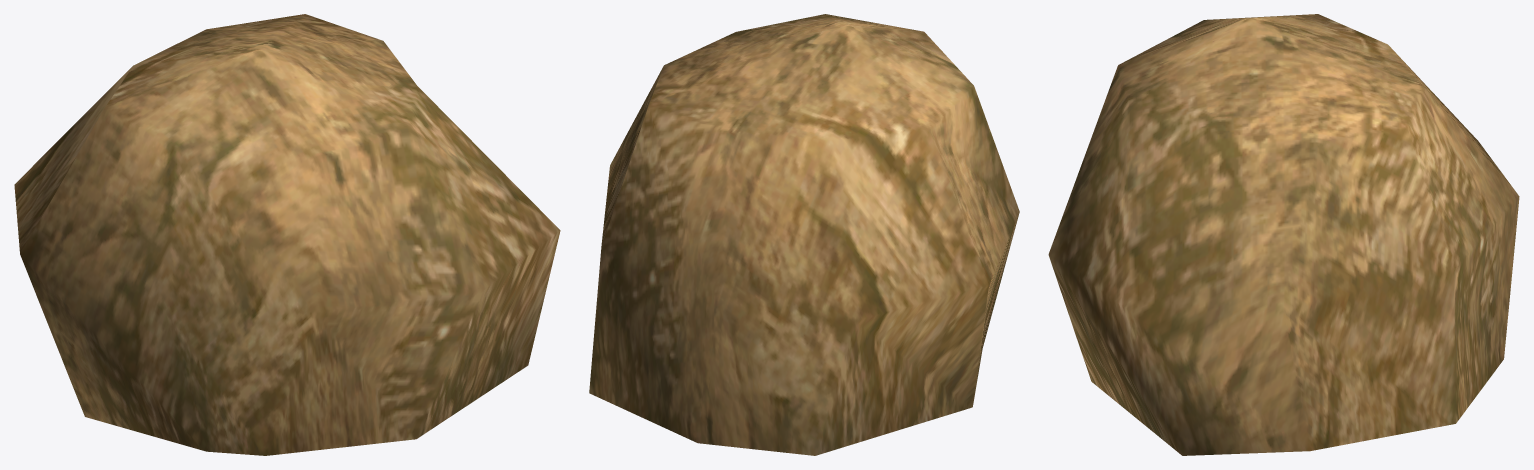
File: M5_Rock_Big02.glb
3 views of the same model, side by side, from view 1: azimuth 30°, elevation 25°; view 2: azimuth 150°, elevation 25°; view 3: azimuth 270°, elevation 25° (orthographic). The views are drawn at different scales.
Parts seen in each view (by area): view 1: M5_ROCK_BIG02; view 2: M5_ROCK_BIG02; view 3: M5_ROCK_BIG02.
Boxes of the visible parts, left/top/right/bottom form: M5_ROCK_BIG02: left=14, top=14, right=560, bottom=455; M5_ROCK_BIG02: left=589, top=14, right=1019, bottom=455; M5_ROCK_BIG02: left=1048, top=14, right=1519, bottom=455.
Size of the model in its own units: 3.91 by 3 by 3.89.
Materials: 1 (1 with a texture image).
